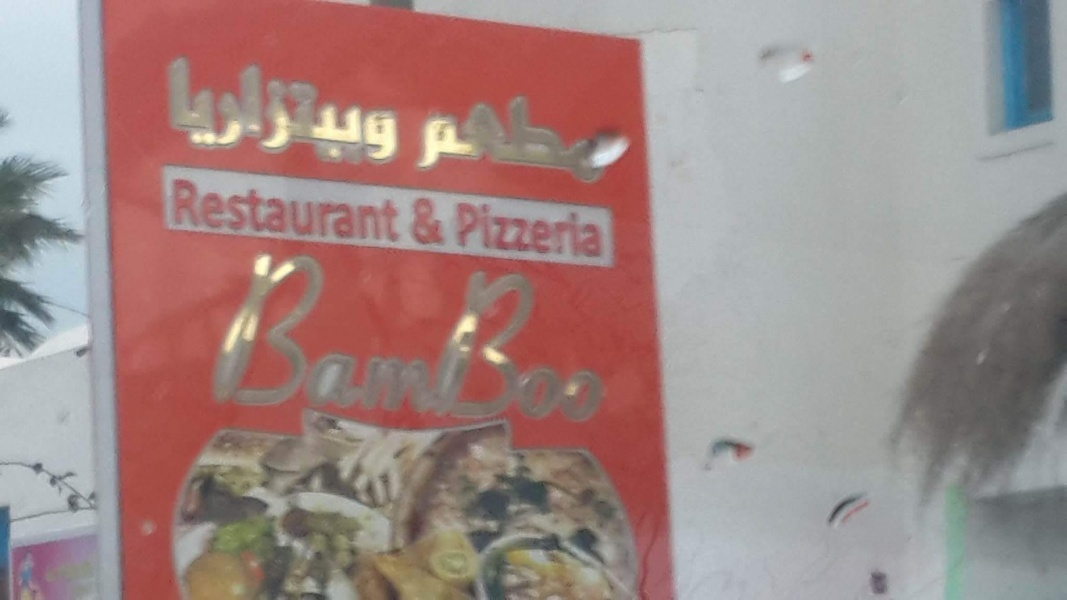text: (257, 248, 272, 429), (273, 248, 288, 429), (289, 248, 304, 429), (305, 248, 320, 429), (321, 248, 336, 429), (337, 248, 352, 429), (353, 248, 368, 429), (369, 248, 384, 429), (385, 248, 400, 429), (401, 248, 416, 429), (417, 248, 432, 429), (433, 248, 448, 429), (449, 248, 464, 429), (465, 248, 480, 429), (481, 248, 496, 429), (497, 248, 512, 429), (513, 248, 528, 429), (529, 248, 544, 429), (545, 248, 560, 429), (561, 248, 576, 429), (577, 248, 592, 429), (593, 248, 608, 429), (242, 248, 256, 429), (177, 46, 192, 173), (193, 46, 208, 173), (209, 46, 224, 173), (225, 46, 240, 173), (241, 46, 256, 173), (257, 46, 272, 173), (273, 46, 288, 173), (289, 46, 304, 173), (305, 46, 320, 173), (321, 46, 336, 173), (337, 46, 352, 173), (353, 46, 368, 173), (369, 46, 384, 173), (385, 46, 400, 173), (164, 46, 176, 173), (433, 92, 448, 187), (449, 92, 464, 187), (465, 92, 480, 187), (481, 92, 496, 187), (497, 92, 512, 187), (513, 92, 528, 187), (529, 92, 544, 187), (545, 92, 560, 187), (561, 92, 576, 187), (577, 92, 592, 187), (593, 92, 608, 187), (609, 92, 620, 187), (177, 178, 192, 244), (193, 178, 208, 244), (209, 178, 224, 244), (225, 178, 240, 244), (241, 178, 256, 244), (257, 178, 272, 244), (273, 178, 288, 244), (289, 178, 304, 244), (305, 178, 320, 244), (321, 178, 336, 244), (337, 178, 352, 244), (353, 178, 368, 244), (369, 178, 384, 244), (385, 178, 400, 244), (465, 201, 480, 261), (481, 201, 496, 261), (497, 201, 512, 261), (513, 201, 528, 261), (529, 201, 544, 261), (545, 201, 560, 261), (561, 201, 576, 261), (577, 201, 592, 261), (417, 195, 432, 246), (593, 201, 605, 261), (425, 92, 432, 187), (433, 195, 446, 246), (454, 201, 464, 261), (410, 195, 416, 246), (172, 178, 176, 244), (609, 248, 610, 429), (401, 178, 403, 244), (401, 46, 402, 173)
